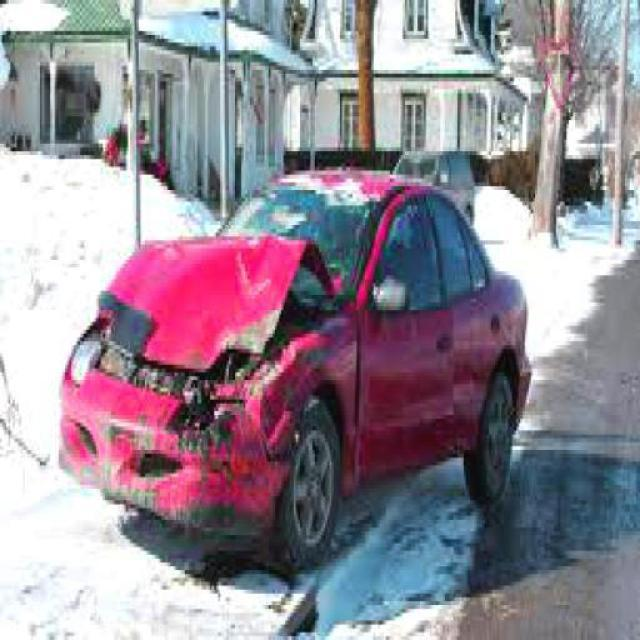car damage: (54, 233, 360, 548)
